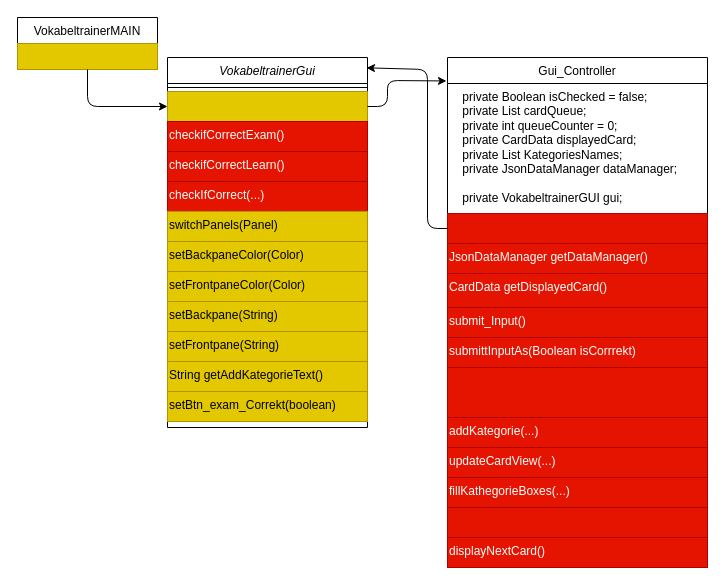
The diagram is 725 pixels wide and 585 high, and some of its shapes have lost their labels. Each missing label, with the centre of its shape:
"addCard(String frontpane, String backpane, String selectedKategorie)" goes at pixel 577 392.
"Gui_Controller(VokabeltrainerGUI)" goes at pixel 577 228.
"initialize_Gui()" goes at pixel 267 106.
"main(...)" goes at pixel 87 56.
"startQueue()" goes at pixel 577 522.
